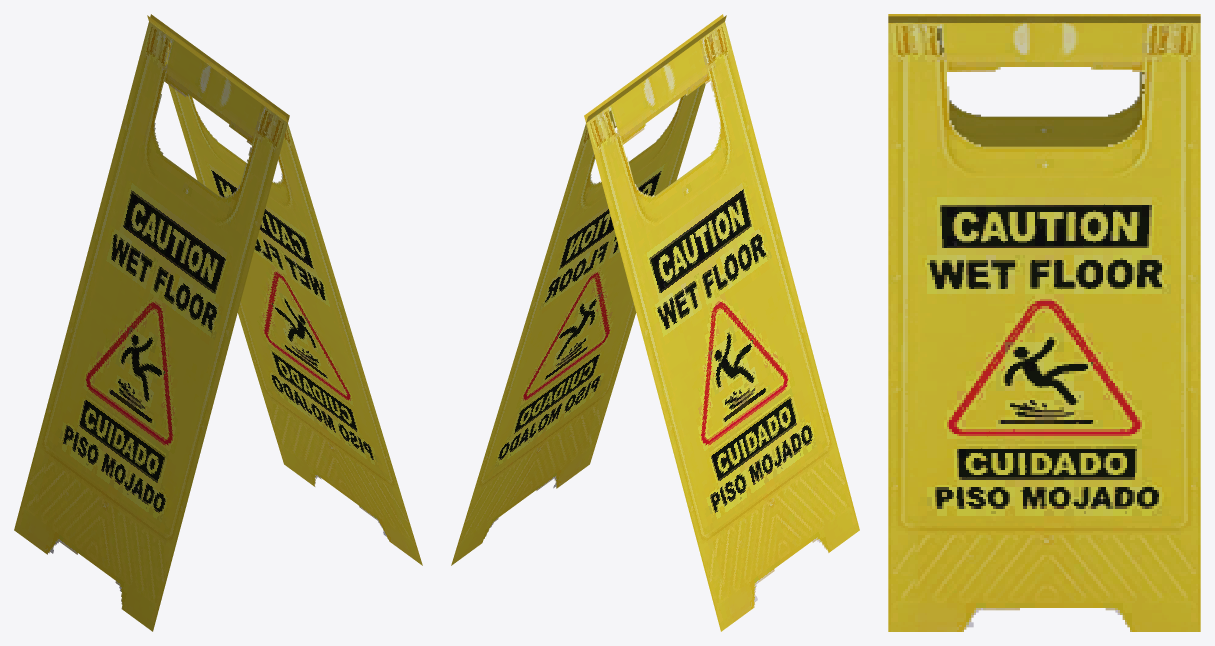
Rendered from Wetfloor.glb.
The picture shows the model from 3 angles, left to right: view 1: azimuth 30°, elevation 25°; view 2: azimuth 150°, elevation 25°; view 3: azimuth 270°, elevation 25°; orthographic projection. The views are drawn at different scales.
Parts seen in each view (by area): view 1: WetFloor; view 2: WetFloor; view 3: WetFloor.
Boxes of the visible parts, left/top/right/bottom form: WetFloor: left=14, top=14, right=422, bottom=631; WetFloor: left=451, top=14, right=859, bottom=631; WetFloor: left=888, top=14, right=1200, bottom=631.
Size of the model in its own units: 0.561 by 0.9586 by 0.5.
1 material, 1 textured.
